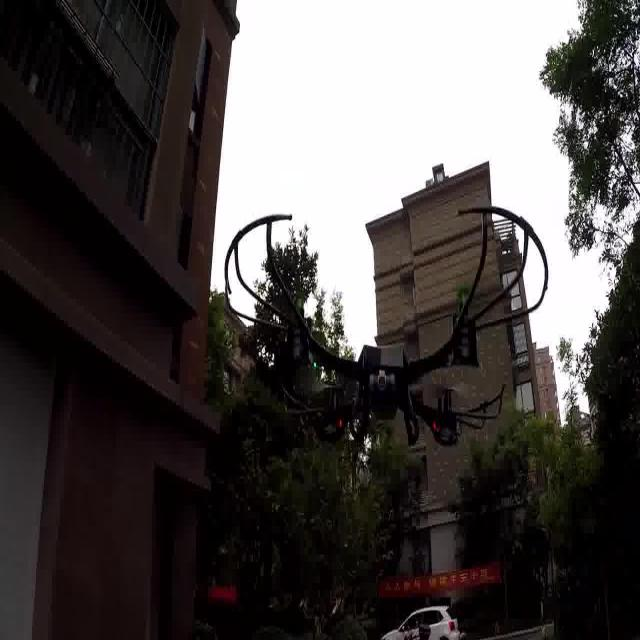drone: (208, 190, 546, 478)
